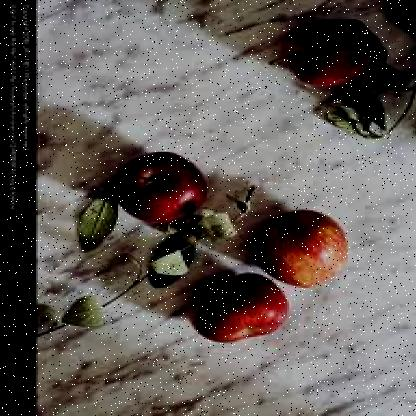apple: (190, 268, 284, 346), (258, 206, 349, 286), (284, 17, 382, 87), (122, 146, 204, 226)
